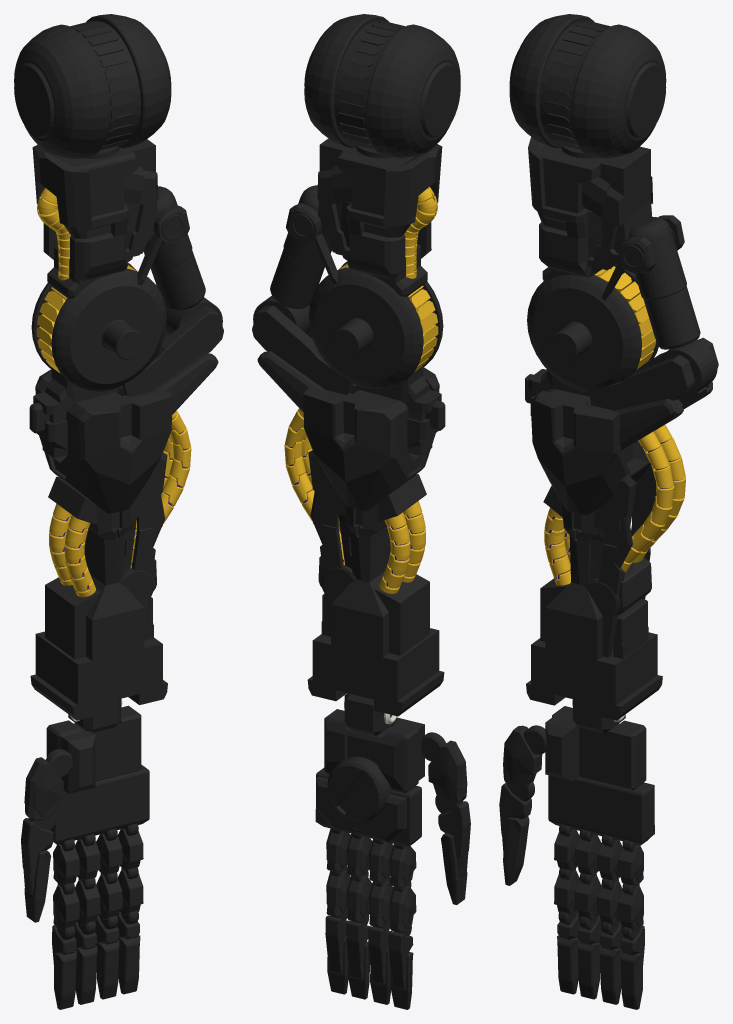
The model's file is RightArm 4.fbx.
3 views of the same model, side by side, from view 1: azimuth 30°, elevation 25°; view 2: azimuth 150°, elevation 25°; view 3: azimuth 330°, elevation 25° (orthographic).
Visible parts, largest first — view 1: Rarm.2, Rarmjoint.1, Rarmjoint.2, Rarm.1, base.R, Oya.4.R, Oya.2.R, Hito.6.R, Kusu.6.R, ko.6.R, Naka.6.R, Hito.4.R (+9 smaller); view 2: Rarm.2, Rarmjoint.1, Rarmjoint.2, Rarm.1, base.R, Oya.4.R, Oya.2.R, Hito.6.R, Kusu.6.R, ko.6.R, Naka.6.R, HandJoint.R (+9 smaller); view 3: Rarm.2, Rarmjoint.2, Rarmjoint.1, Rarm.1, base.R, Oya.4.R, Oya.2.R, ko.6.R, Naka.6.R, Kusu.6.R, Hito.6.R, Ko.4.R (+9 smaller).
Boxes of the visible parts, box(x1,y1,x2,y2) form: Rarm.2: box(29, 297, 223, 720); Rarmjoint.1: box(14, 14, 171, 158); Rarmjoint.2: box(31, 186, 205, 391); Rarm.1: box(32, 139, 158, 298); base.R: box(46, 705, 149, 844); Oya.4.R: box(21, 818, 53, 922); Oya.2.R: box(24, 757, 63, 820); Hito.6.R: box(52, 925, 76, 1009); Kusu.6.R: box(95, 915, 119, 999); ko.6.R: box(117, 911, 140, 994); Naka.6.R: box(74, 922, 97, 1004); Hito.4.R: box(53, 885, 79, 930); Rarm.2: box(252, 296, 445, 716); Rarmjoint.1: box(304, 14, 460, 158); Rarmjoint.2: box(270, 185, 443, 389); Rarm.1: box(317, 138, 442, 297); base.R: box(315, 709, 424, 847); Oya.4.R: box(438, 801, 470, 904); Oya.2.R: box(428, 740, 467, 803); Hito.6.R: box(388, 931, 413, 1009); Kusu.6.R: box(346, 920, 369, 999); ko.6.R: box(325, 915, 348, 994); Naka.6.R: box(368, 926, 390, 1004); HandJoint.R: box(344, 693, 397, 736); Rarm.2: box(525, 337, 718, 720); Rarmjoint.2: box(527, 215, 700, 392); Rarmjoint.1: box(509, 14, 666, 158); Rarm.1: box(528, 137, 653, 281); base.R: box(545, 706, 654, 845); Oya.4.R: box(499, 783, 531, 885); Oya.2.R: box(503, 725, 542, 787); ko.6.R: box(620, 925, 644, 1009); Naka.6.R: box(577, 915, 602, 999); Kusu.6.R: box(599, 922, 622, 1004); Hito.6.R: box(557, 912, 580, 994); Ko.4.R: box(617, 885, 643, 930).
Bounding box in the file's own units: 110 × 874 × 186.
